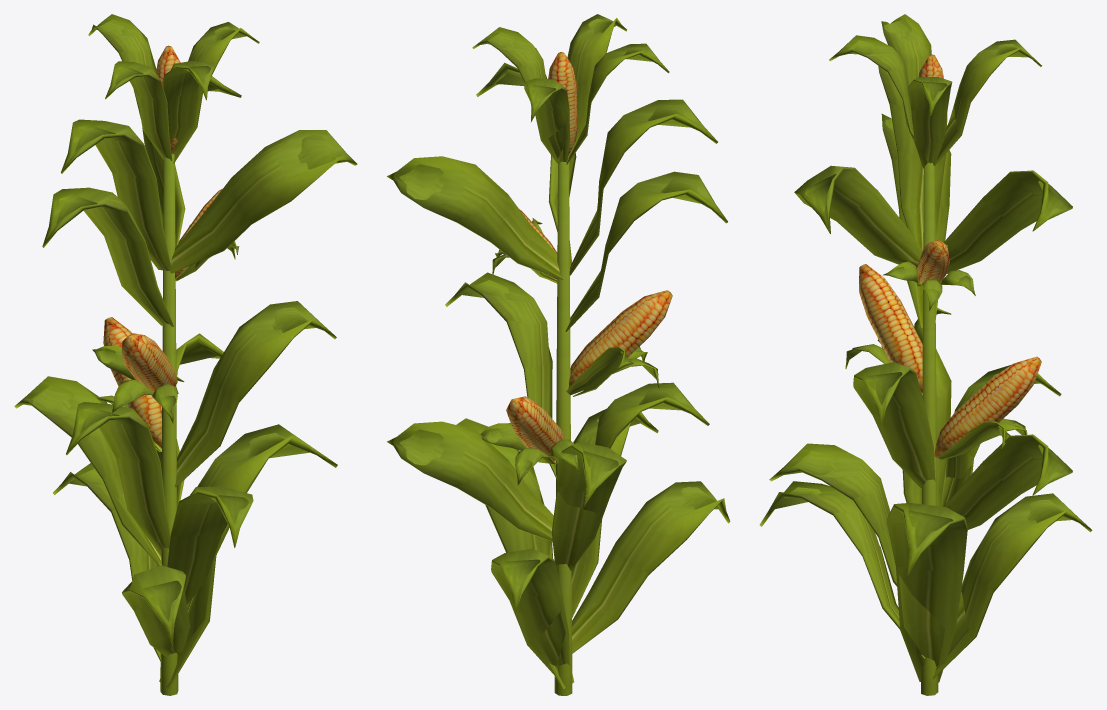
The model's file is corn-transformed.glb.
3 renders of one model, left to right at view 1: azimuth 30°, elevation 25°; view 2: azimuth 150°, elevation 25°; view 3: azimuth 270°, elevation 25°, orthographic.
Visible parts, largest first — view 1: Circle_020; view 2: Circle_020; view 3: Circle_020.
Boxes of the visible parts, x1,y1,x2,y2 form: Circle_020: [14, 14, 357, 695]; Circle_020: [387, 14, 730, 695]; Circle_020: [759, 14, 1092, 695].
Size of the model in its own units: 1.17 by 2.41 by 1.12.
2 materials, 2 textured.
